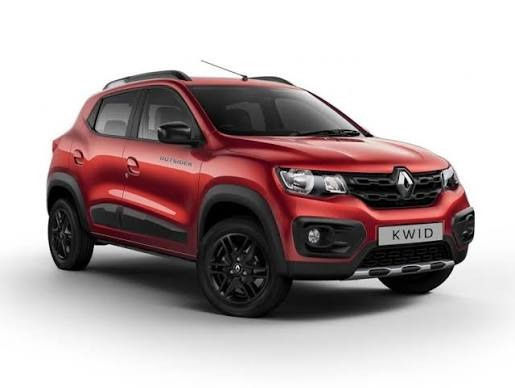car: (30, 63, 476, 313), (39, 64, 474, 316)
